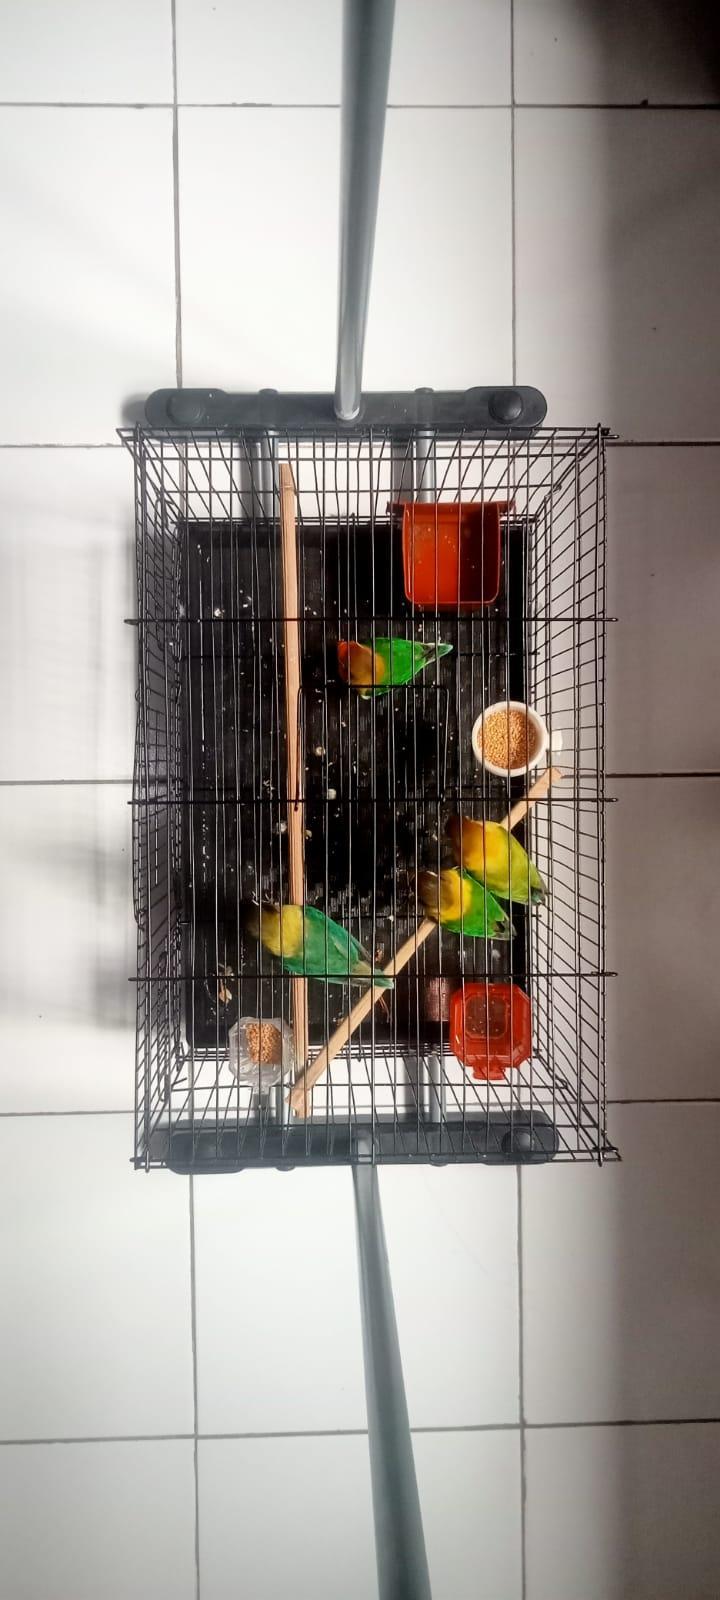LoveBird: (238, 900, 394, 990), (446, 813, 550, 908), (407, 867, 518, 942), (336, 638, 452, 699)
